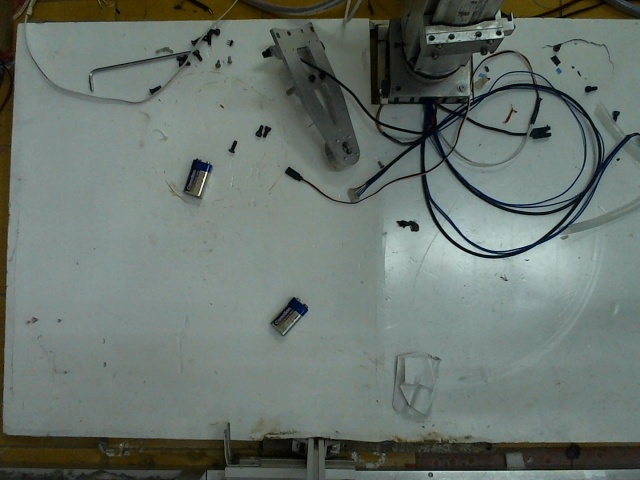battery: (263, 292, 311, 336), (180, 155, 214, 196)
